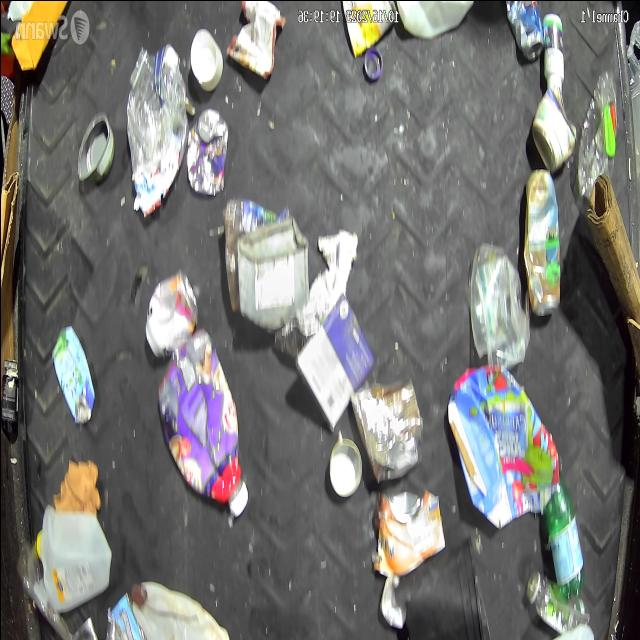can: (373, 486, 444, 570), (142, 268, 198, 362), (529, 88, 576, 175), (184, 106, 228, 198), (74, 110, 116, 186), (502, 0, 544, 62), (326, 432, 362, 498)
milk_jug: (34, 499, 110, 611), (128, 570, 228, 640)
non_white_jug: (155, 326, 247, 522)
plastic_bottle: (525, 566, 590, 638)
